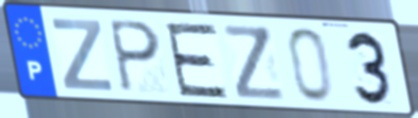0: (284, 24, 338, 105)
3: (345, 29, 392, 107)
E: (162, 21, 231, 100)
P: (106, 17, 164, 95)
Z: (220, 23, 289, 103), (48, 16, 115, 93)
